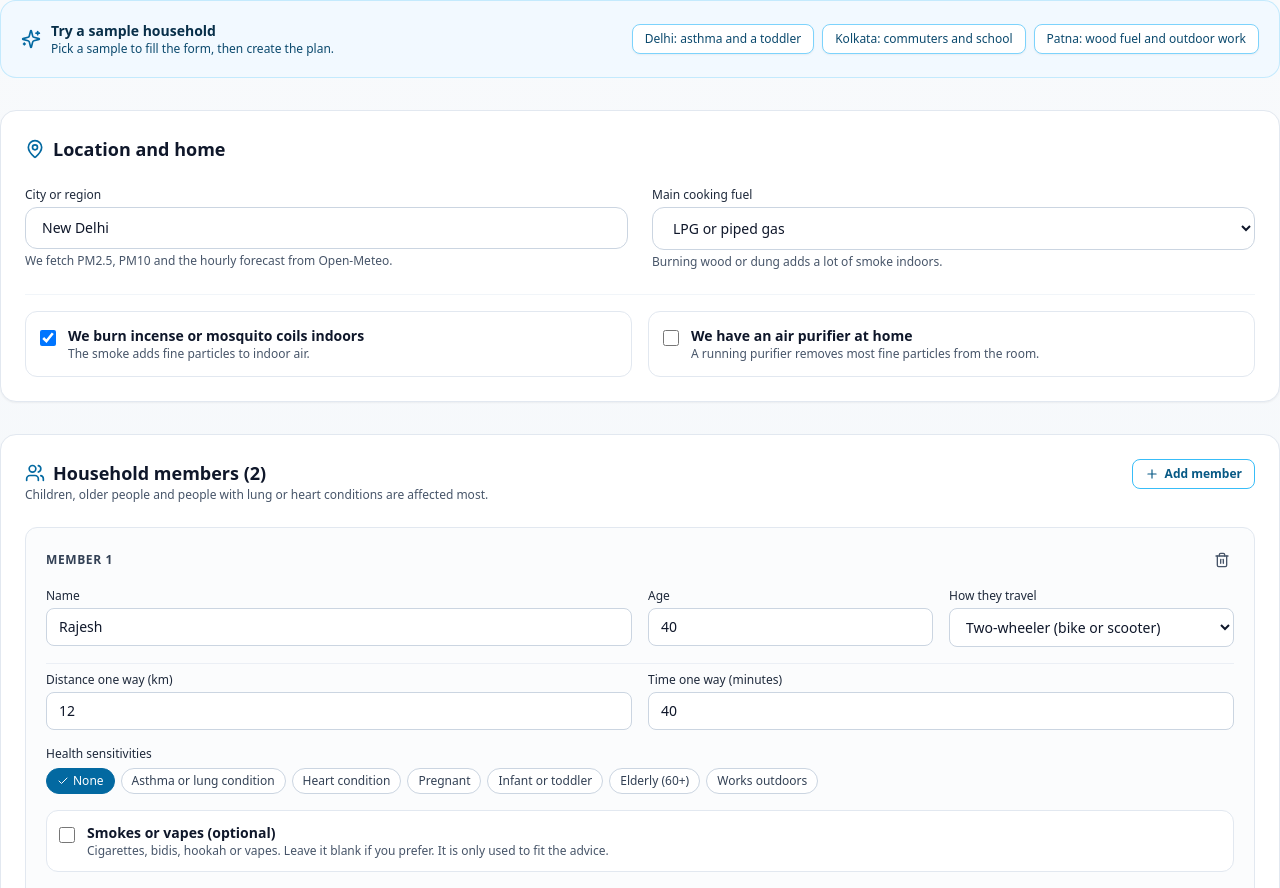
Test: HouseholdForm: new members, homemakers and chips › moves the cursor to the name of a member that was just added
Click the button "Add member".
click(1193, 474)  # box left=1132, top=459, right=1255, bottom=489
(page scrolled)
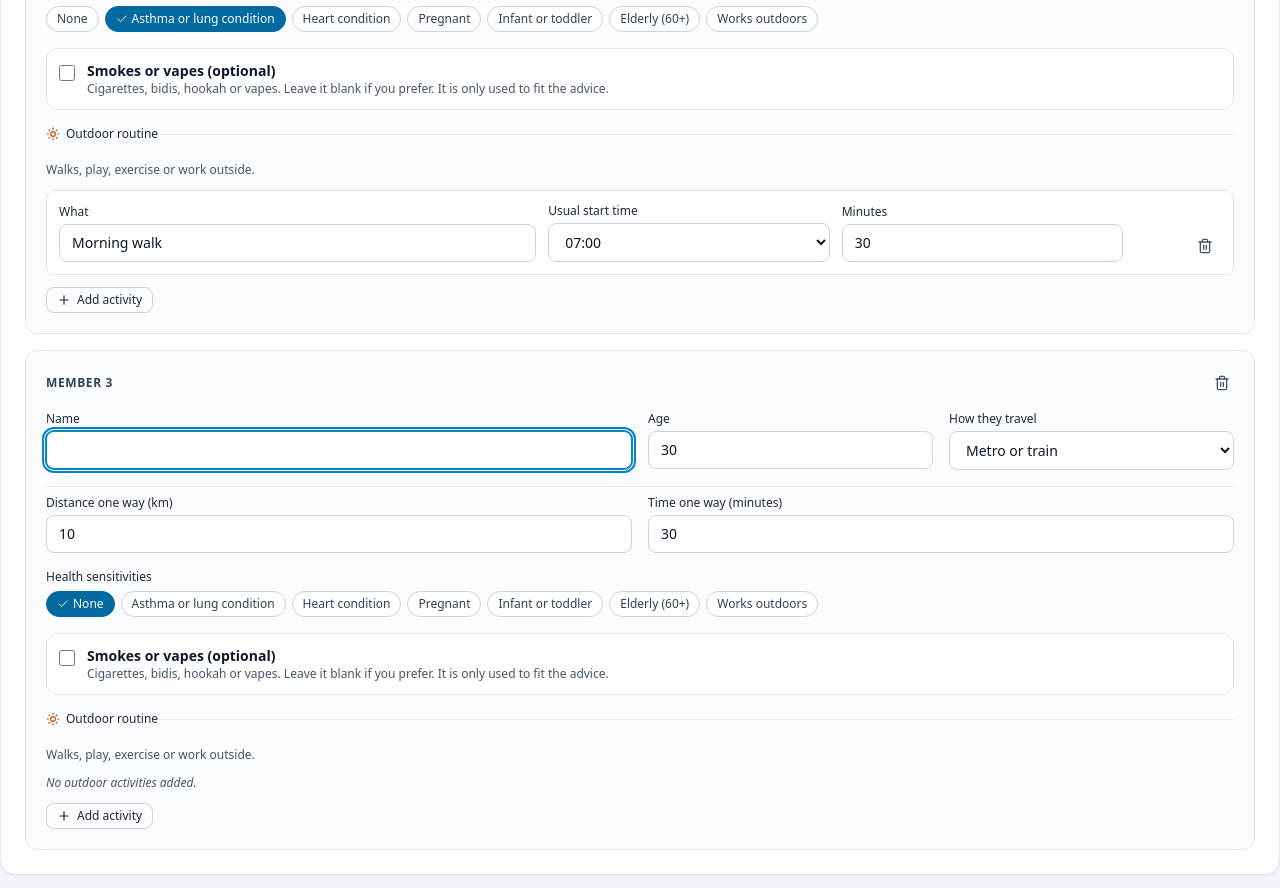
expect the number of fields labelled "Name" is 3: met
